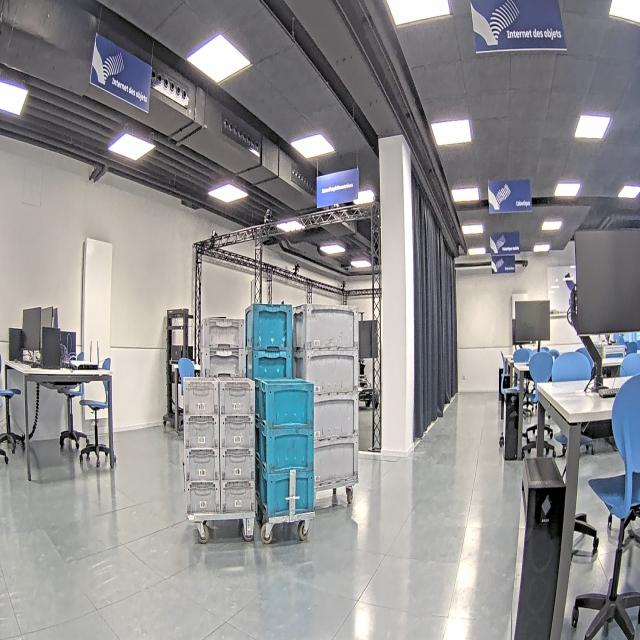Box3G: (202, 316, 244, 349), (201, 346, 245, 377)
Box4G: (292, 347, 359, 396), (292, 304, 359, 352), (312, 437, 359, 488), (311, 394, 359, 437)
Box8G: (218, 378, 255, 417), (182, 378, 218, 416), (218, 415, 255, 451), (183, 450, 221, 484), (181, 418, 219, 451), (219, 450, 256, 483), (184, 484, 219, 516), (219, 483, 256, 513)
BoxB4: (244, 305, 294, 354), (244, 349, 294, 393)
BoxB8: (260, 377, 317, 428), (260, 464, 315, 512), (260, 427, 314, 471)
